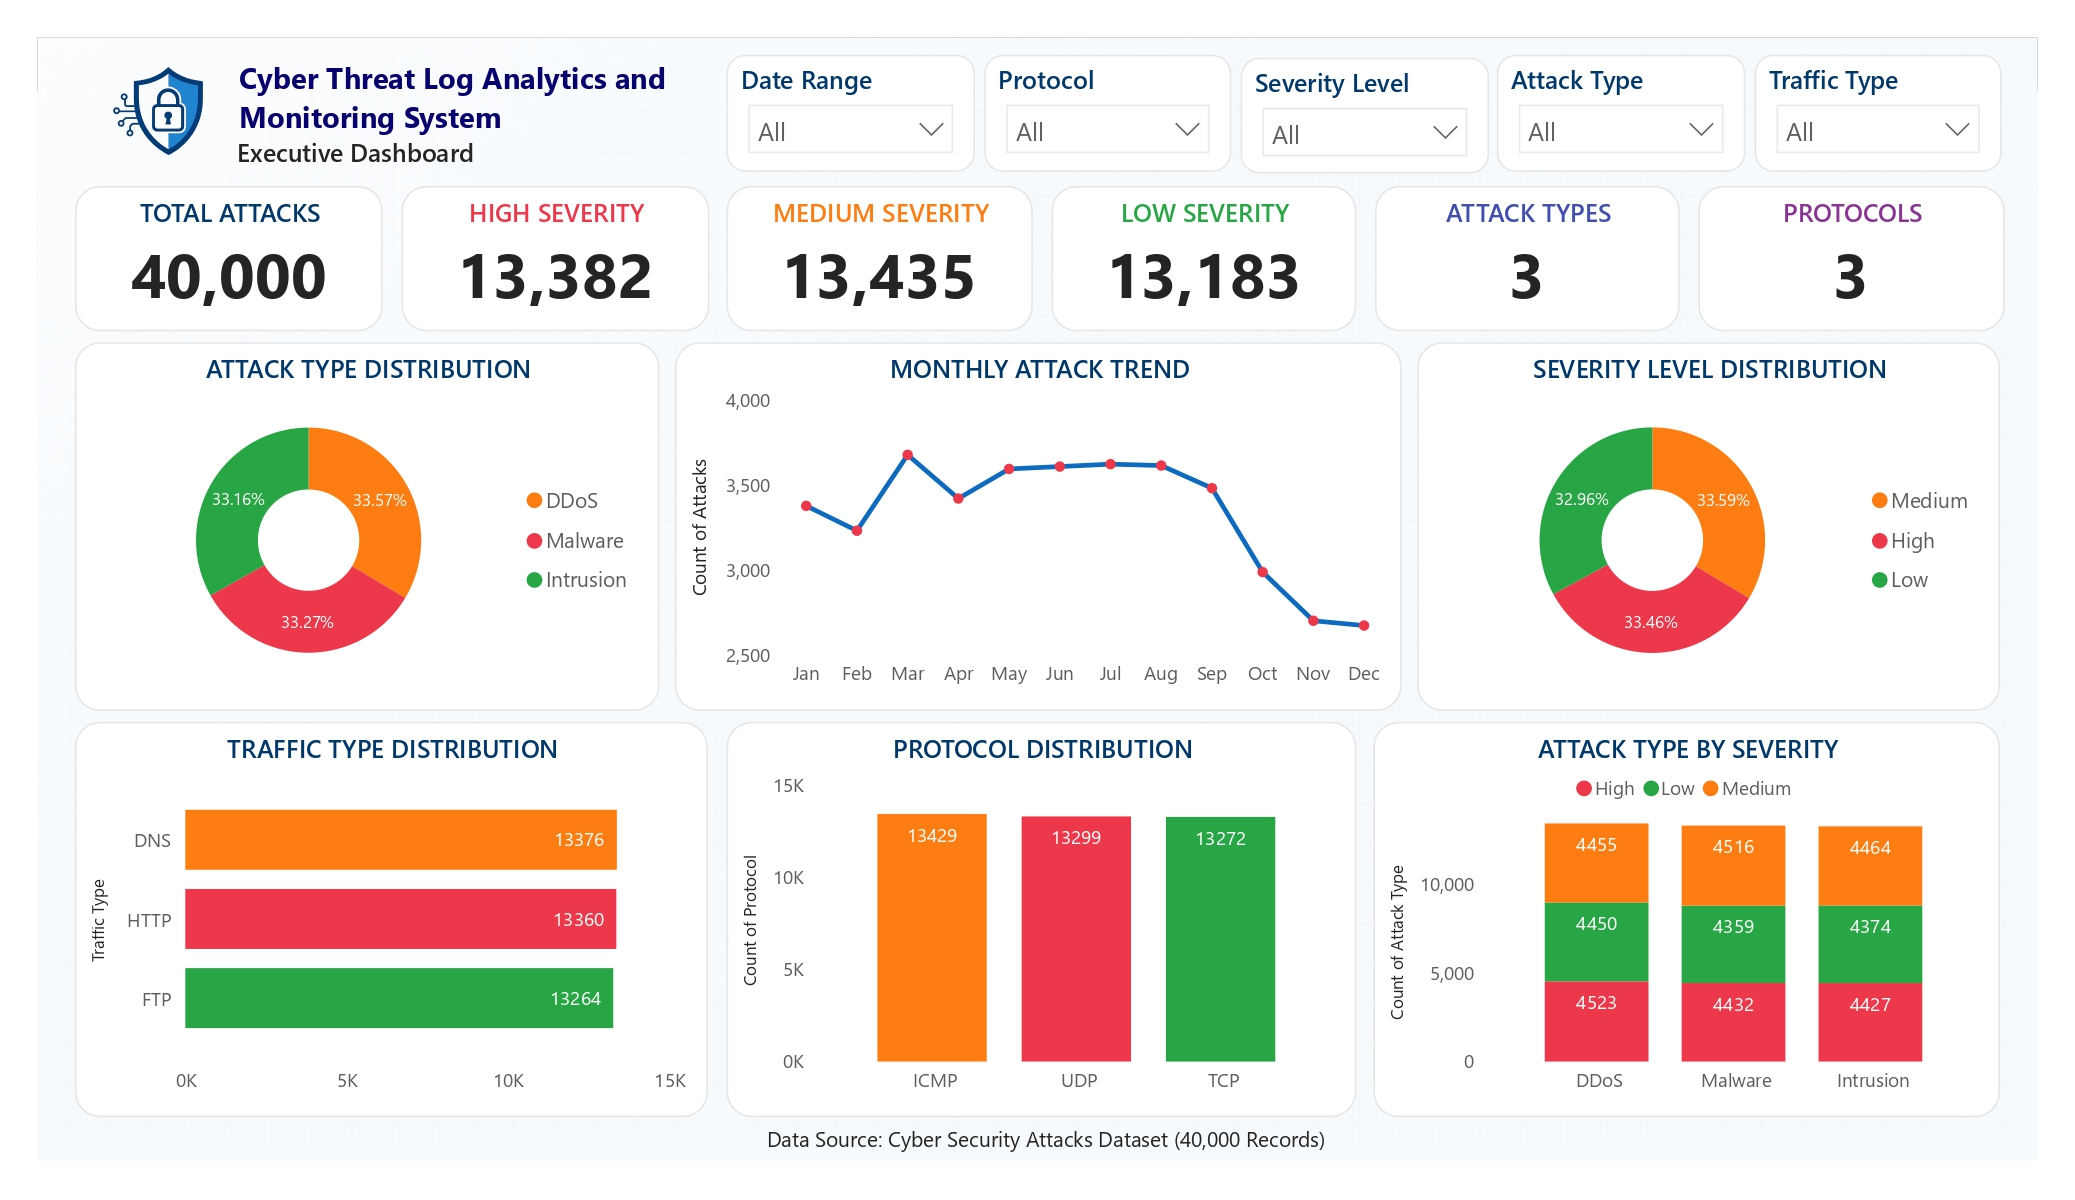

The page's visual inventory and layout, read from the dashboard file:
{"tool":"powerbi","page":{"name":"Dashboard","canvas":[1280,720],"ordinal":0},"visuals":[{"type":"textbox","box":[123.8,7.5,297.5,66.2],"z":0},{"type":"cardVisual","title":"TOTAL ATTACKS","fields":{"Data":["Cyber_Attacks.Total Records"]},"box":[24.3,94.7,197.1,92.9],"z":1000},{"type":"cardVisual","title":"HIGH SEVERITY","fields":{"Data":["Cyber_Attacks.High Severity"]},"box":[232.9,94.7,197.1,92.9],"z":2000},{"type":"cardVisual","title":"MEDIUM SEVERITY","fields":{"Data":["Cyber_Attacks.Medium Severity"]},"box":[441.4,94.7,195.7,92.9],"z":3000},{"type":"cardVisual","title":"LOW SEVERITY","fields":{"Data":["Cyber_Attacks.Low Severity"]},"box":[648.6,94.7,195.7,92.9],"z":4000},{"type":"cardVisual","title":"PROTOCOLS","fields":{"Data":["Cyber_Attacks.Protocols"]},"box":[1062.9,94.7,195.7,92.9],"z":5000},{"type":"cardVisual","title":"ATTACK TYPES","fields":{"Data":["Cyber_Attacks.Attack Types"]},"box":[855.7,94.7,195.7,92.9],"z":6000},{"type":"donutChart","title":"ATTACK TYPE DISTRIBUTION","fields":{"Category":["Cyber_Attacks.Attack_Type"],"Y":["CountNonNull(Cyber_Attacks.Attack_Type)"]},"box":[24.2,194.7,373.3,236.7],"z":7000},{"type":"donutChart","title":"SEVERITY LEVEL DISTRIBUTION","fields":{"Category":["Cyber_Attacks.Severity_Level"],"Y":["CountNonNull(Cyber_Attacks.Severity_Level)"]},"box":[882.5,194.7,373.3,236.7],"z":8000},{"type":"columnChart","title":"PROTOCOL DISTRIBUTION","fields":{"Category":["Cyber_Attacks.Protocol"],"Y":["CountNonNull(Cyber_Attacks.Protocol)"]},"box":[440.7,438.5,402.9,252.9],"z":9000},{"type":"slicer","title":"Date Range","fields":{"Values":["Cyber_Attacks.Date"]},"box":[441.4,11.4,158.6,74.3],"z":10000},{"type":"clusteredBarChart","title":"TRAFFIC TYPE DISTRIBUTION","fields":{"Category":["Cyber_Attacks.Traffic_Type"],"Y":["CountNonNull(Cyber_Attacks.Traffic_Type)"]},"box":[23.6,438.5,405.7,252.9],"z":11000},{"type":"slicer","title":"Protocol","fields":{"Values":["Cyber_Attacks.Protocol"]},"box":[605.7,11.4,158.6,74.3],"z":12000},{"type":"slicer","title":"Severity Level","fields":{"Values":["Cyber_Attacks.Severity_Level"]},"box":[770,12.9,158.6,74.3],"z":13000},{"type":"slicer","title":"Attack Type","fields":{"Values":["Cyber_Attacks.Attack_Type"]},"box":[934.3,11.4,158.6,74.3],"z":14000},{"type":"slicer","title":"Traffic Type","fields":{"Values":["Cyber_Attacks.Traffic_Type"]},"box":[1098.6,11.4,158.6,74.3],"z":15000},{"type":"columnChart","title":"ATTACK TYPE BY SEVERITY","fields":{"Category":["Cyber_Attacks.Attack_Type"],"Series":["Cyber_Attacks.Severity_Level"],"Y":["CountNonNull(Cyber_Attacks.Attack_Type)"]},"box":[855,438.5,401.4,252.9],"z":16000},{"type":"lineChart","title":"MONTHLY ATTACK TREND","fields":{"Y":["CountNonNull(Cyber_Attacks.Attack_Type)"],"Category":["Cyber_Attacks.Month"]},"box":[407.5,194.7,465,236.7],"z":17000},{"type":"textbox","box":[455,691.2,381.2,28.8],"z":18000},{"type":"image","box":[12.5,0,137.5,115],"z":19000},{"type":"textbox","box":[122.5,57.5,186.2,37.5],"z":20000}]}

Visuals, with their boxes on the page's 1280x720 design canvas (x1, y1, x2, y2). These are canvas units, not pixel positions in the 2075x1200 screenshot, which may show the page scaled, cropped or inside an application window:
textbox: 124/8/421/74
"TOTAL ATTACKS" cardVisual: 24/95/221/188
"HIGH SEVERITY" cardVisual: 233/95/430/188
"MEDIUM SEVERITY" cardVisual: 441/95/637/188
"LOW SEVERITY" cardVisual: 649/95/844/188
"PROTOCOLS" cardVisual: 1063/95/1259/188
"ATTACK TYPES" cardVisual: 856/95/1051/188
"ATTACK TYPE DISTRIBUTION" donutChart: 24/195/398/431
"SEVERITY LEVEL DISTRIBUTION" donutChart: 882/195/1256/431
"PROTOCOL DISTRIBUTION" columnChart: 441/438/844/691
"Date Range" slicer: 441/11/600/86
"TRAFFIC TYPE DISTRIBUTION" clusteredBarChart: 24/438/429/691
"Protocol" slicer: 606/11/764/86
"Severity Level" slicer: 770/13/929/87
"Attack Type" slicer: 934/11/1093/86
"Traffic Type" slicer: 1099/11/1257/86
"ATTACK TYPE BY SEVERITY" columnChart: 855/438/1256/691
"MONTHLY ATTACK TREND" lineChart: 408/195/872/431
textbox: 455/691/836/720
image: 12/0/150/115
textbox: 122/58/309/95
